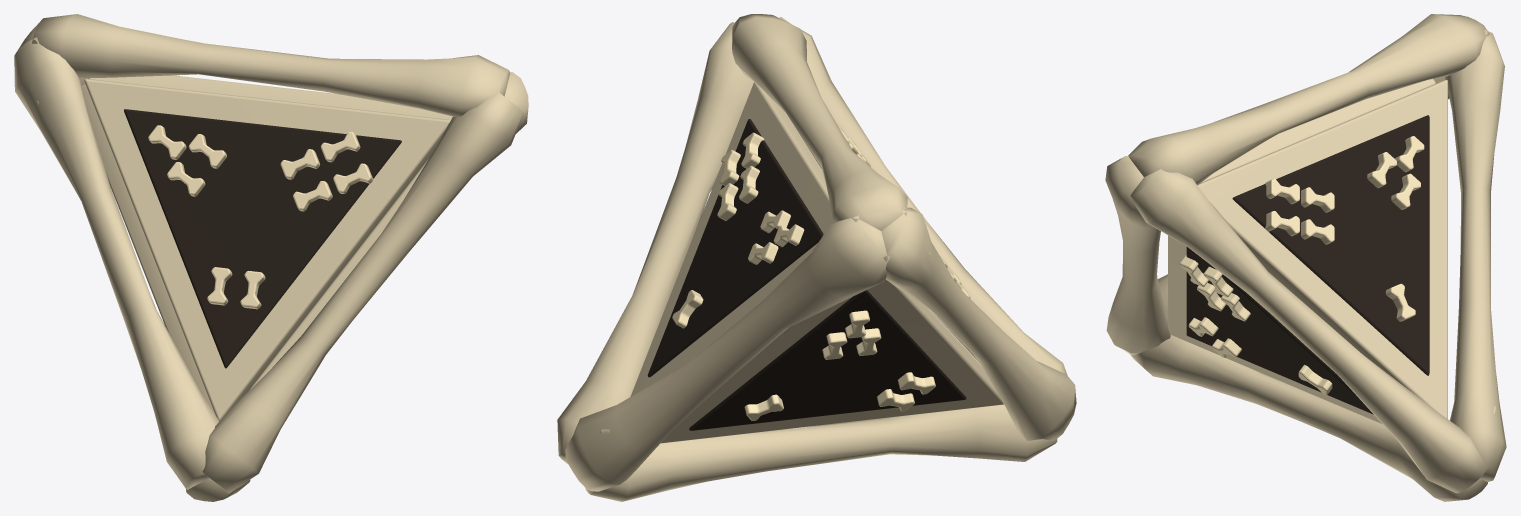
The picture shows the model from 3 angles, left to right: view 1: azimuth 30°, elevation 25°; view 2: azimuth 150°, elevation 25°; view 3: azimuth 270°, elevation 25°; orthographic projection. The views are drawn at different scales.
Visible parts, largest first — view 1: Monster Dungeon d4 canonical sculpture; view 2: Monster Dungeon d4 canonical sculpture; view 3: Monster Dungeon d4 canonical sculpture.
Boxes of the visible parts, left/top/right/bottom form: Monster Dungeon d4 canonical sculpture: left=14, top=14, right=528, bottom=501; Monster Dungeon d4 canonical sculpture: left=557, top=14, right=1076, bottom=501; Monster Dungeon d4 canonical sculpture: left=1105, top=14, right=1506, bottom=501.
Bounding box in the file's own units: 1.38 × 1.38 × 1.38.
